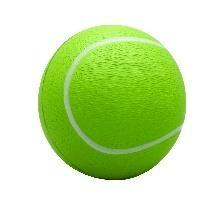Sports-Ball: (37, 25, 188, 186)
